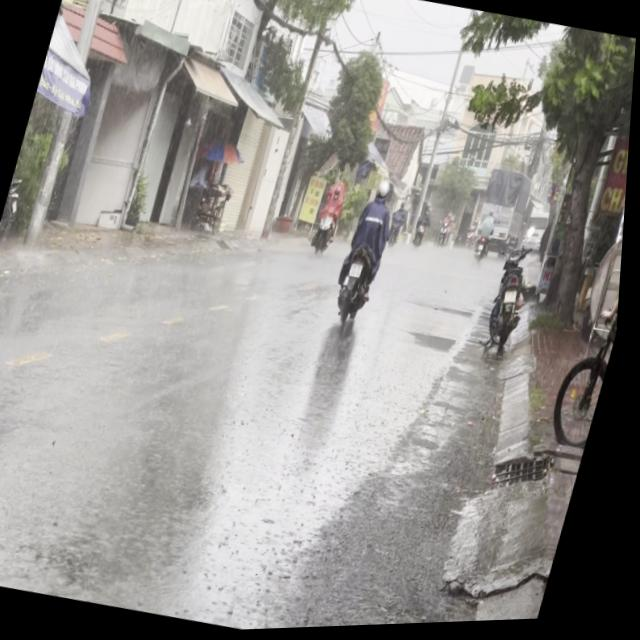licenseplate: (327, 174, 405, 331)
nohelmet: (351, 265, 366, 280)
